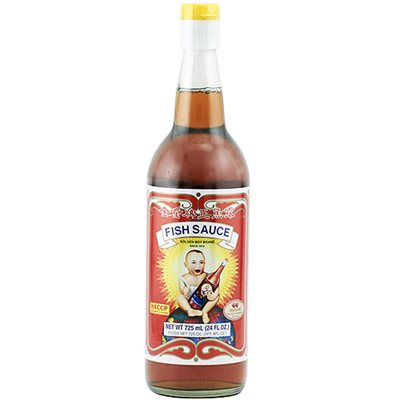glass_bottle: (137, 2, 260, 400)
